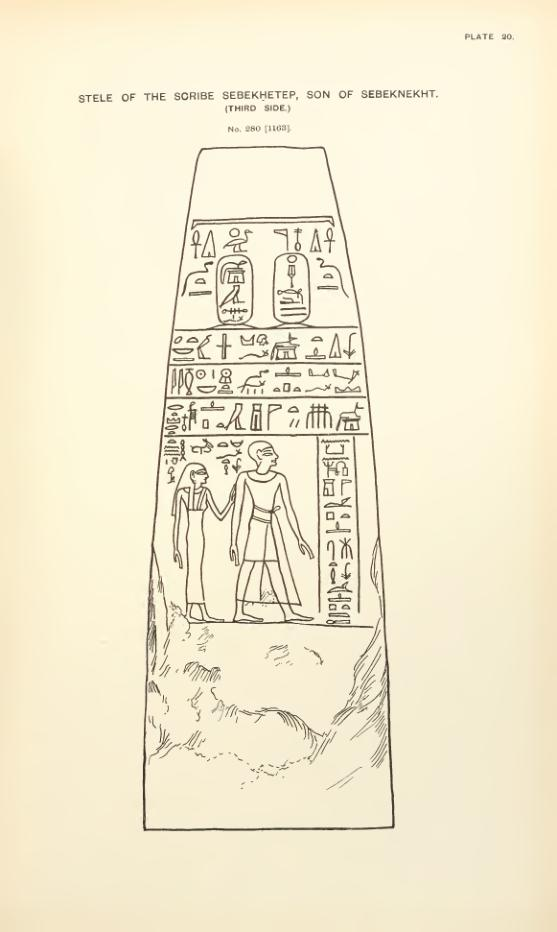circle: (267, 249, 315, 328), (214, 253, 254, 329)
